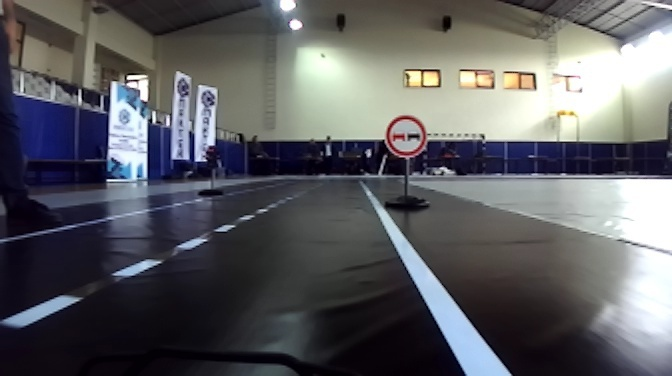sollama_yasak: (383, 114, 427, 160)
